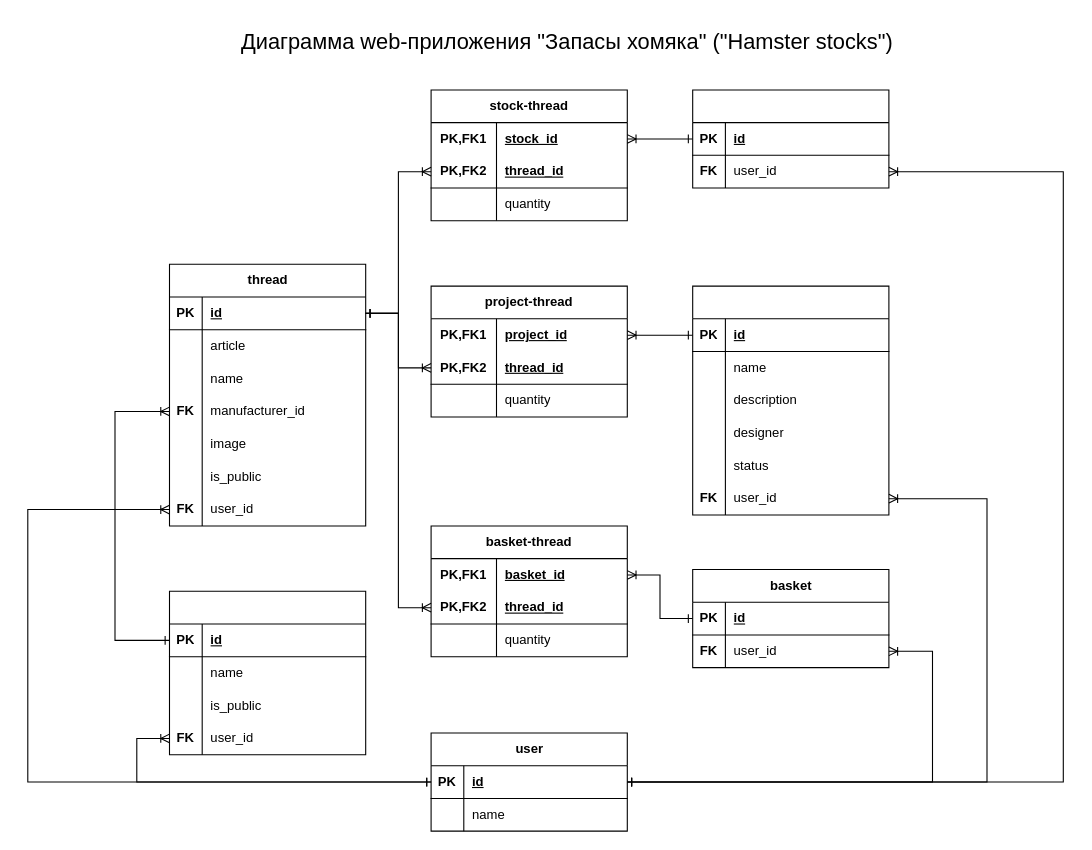
Image size: 1092x850. Some labels were removed from this diagram. The box of each missing label's shape, as (x1, y1, x2, y2) in pixels:
manufacturer: (168, 590, 366, 755)
project: (692, 285, 889, 515)
stock: (692, 89, 889, 188)
